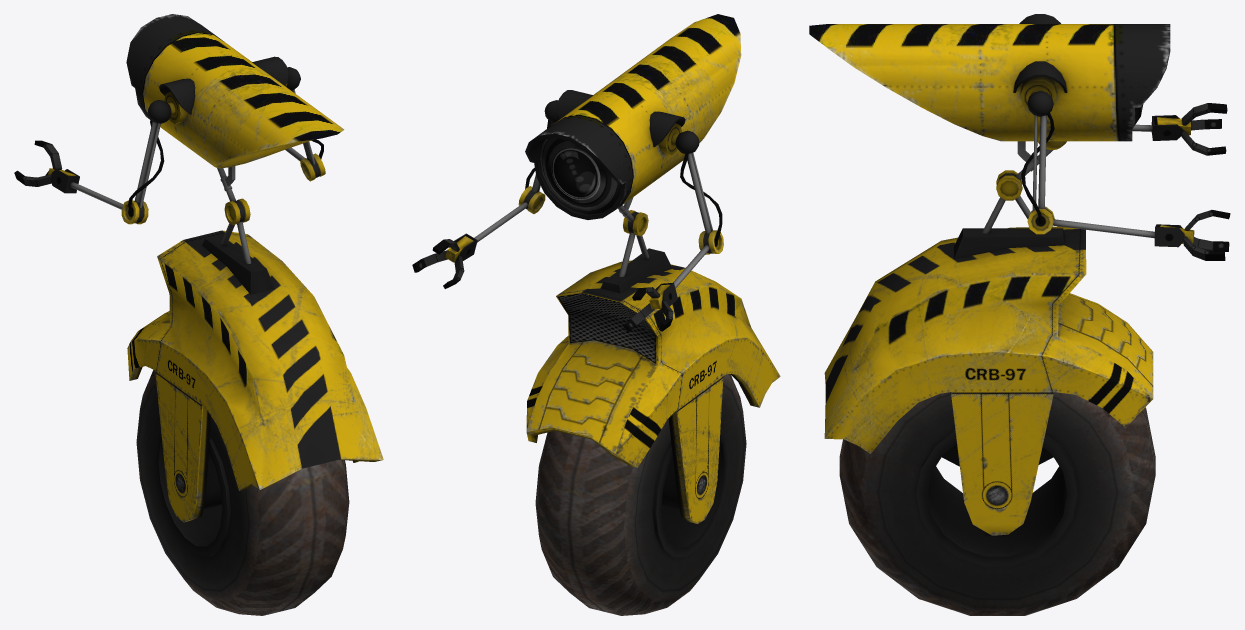
File: minirover.dae
3 renders of one model, left to right at view 1: azimuth 30°, elevation 25°; view 2: azimuth 150°, elevation 25°; view 3: azimuth 270°, elevation 25°, orthographic. The views are drawn at different scales.
Parts seen in each view (by area): view 1: base, wheel, eye_piece, arm, Box001, arm001, Cylinder012; view 2: base, wheel, eye_piece, arm, arm001, Box001, Cylinder012; view 3: base, wheel, eye_piece, arm001, Box001, arm.
Boxes of the visible parts, bbox=[...] form: base: bbox=[127, 230, 383, 522]; wheel: bbox=[136, 370, 349, 615]; eye_piece: bbox=[126, 14, 344, 168]; arm: bbox=[14, 100, 171, 224]; Box001: bbox=[202, 166, 274, 294]; arm001: bbox=[285, 67, 325, 181]; Cylinder012: bbox=[203, 453, 221, 509]; base: bbox=[526, 260, 780, 523]; wheel: bbox=[535, 374, 746, 615]; eye_piece: bbox=[525, 14, 741, 219]; arm: bbox=[623, 130, 723, 332]; arm001: bbox=[412, 100, 559, 288]; Box001: bbox=[600, 197, 672, 293]; Cylinder012: bbox=[661, 458, 679, 510]; base: bbox=[824, 226, 1153, 535]; wheel: bbox=[839, 392, 1155, 615]; eye_piece: bbox=[809, 14, 1170, 141]; arm001: bbox=[1021, 90, 1230, 260]; Box001: bbox=[954, 141, 1066, 258]; arm: bbox=[1132, 103, 1227, 155].
Size of the model in its own units: 0.3619 by 0.4761 by 0.7201.
1 material, 1 textured.
